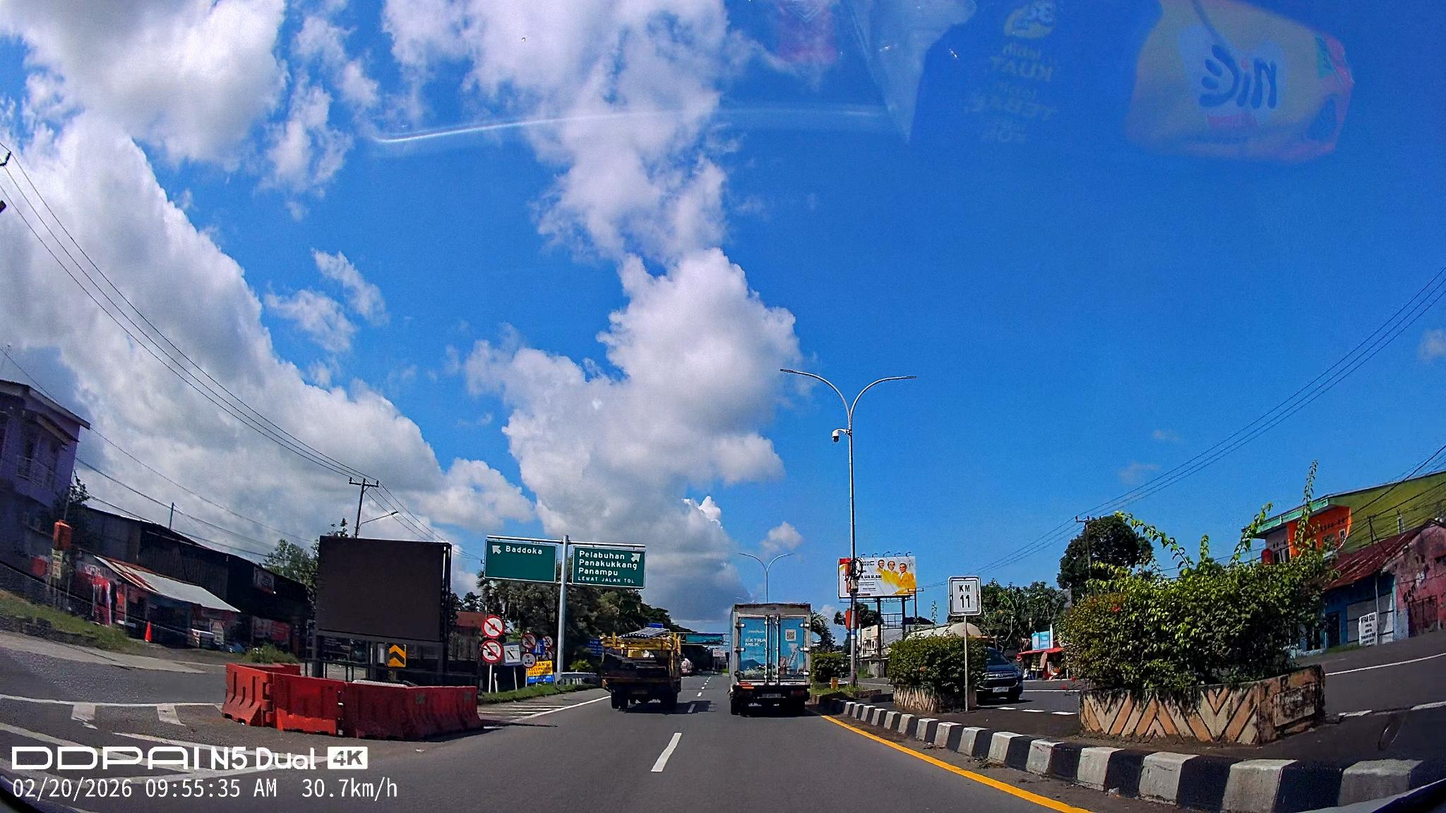rambu_teks: (571, 545, 646, 589), (483, 539, 558, 583)
